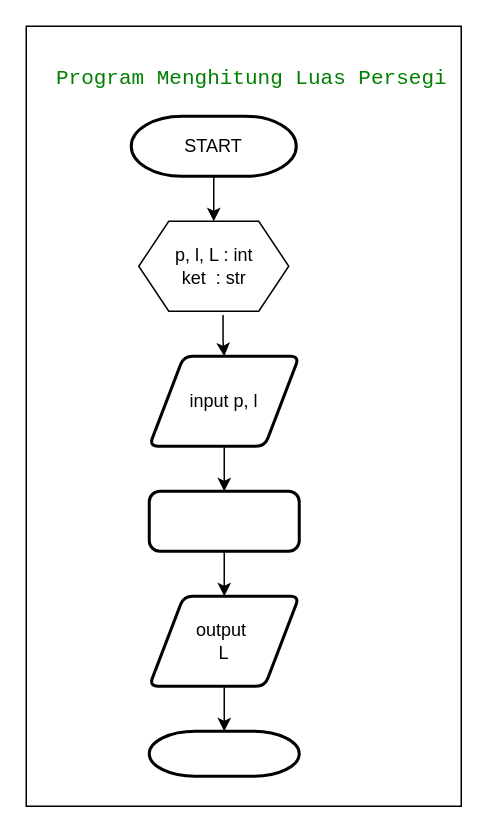
This 488x833 diagram has some shape labels left out. The box of each missing label's shape, as (x1, y1, x2, y2) in pixels:
L = p * l: (147, 489, 300, 552)
SELESAI: (147, 729, 300, 777)
